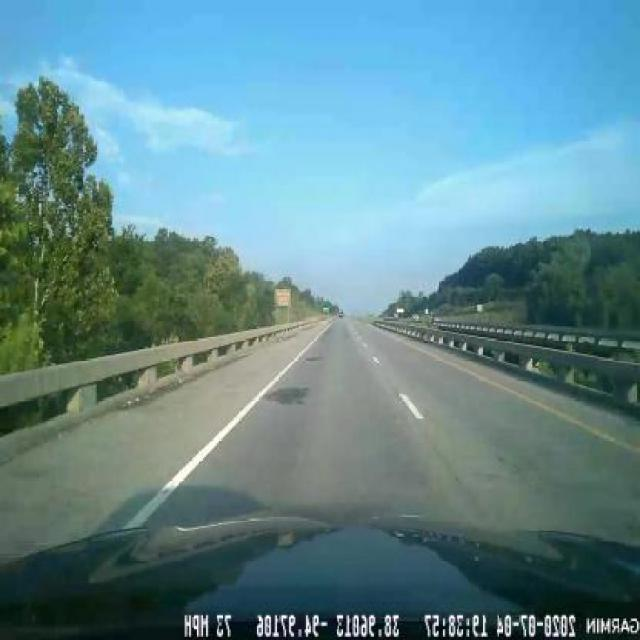pothole: (266, 378, 311, 418)
